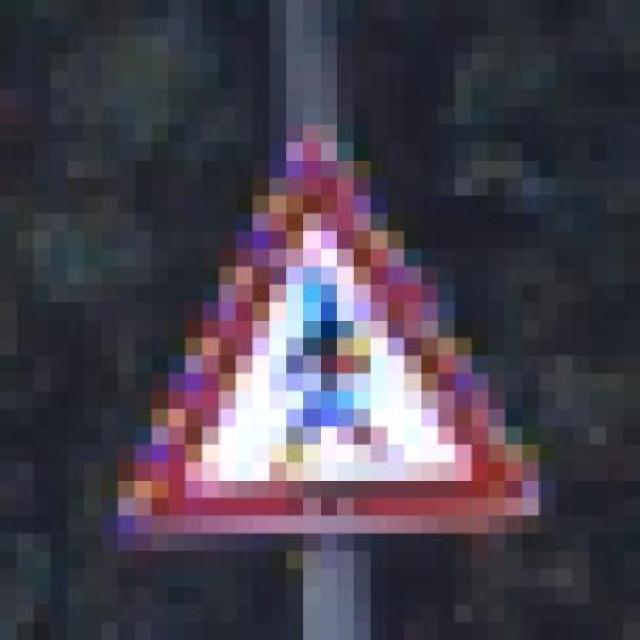Pedestrian Crossing: (101, 107, 556, 551)
